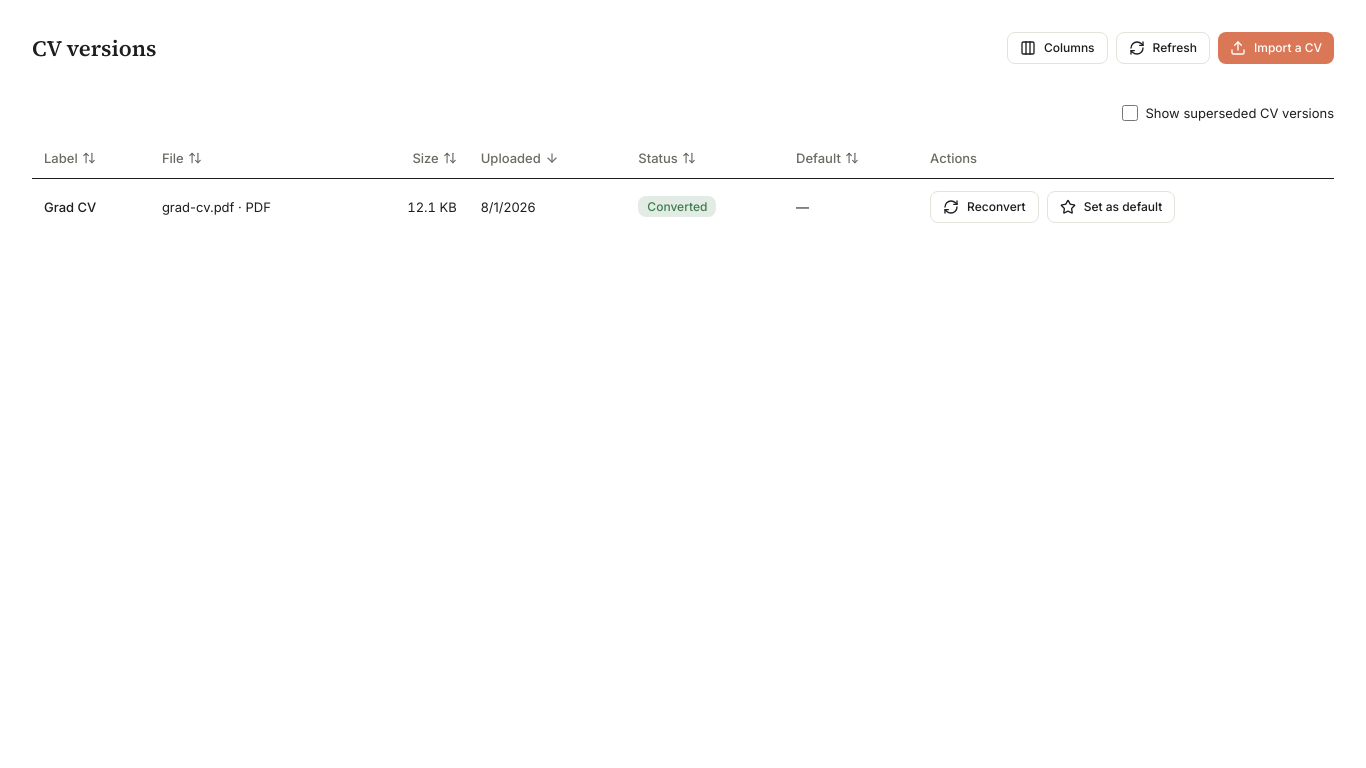
Scenario: CvVersionsPage — list › shows no redaction note when there is no rendition to show yet (issue #169)
This screenshot has width=1366, height=768.
Click the text "Grad CV" at (91, 206), box x1=32 y1=178 x2=150 y2=235
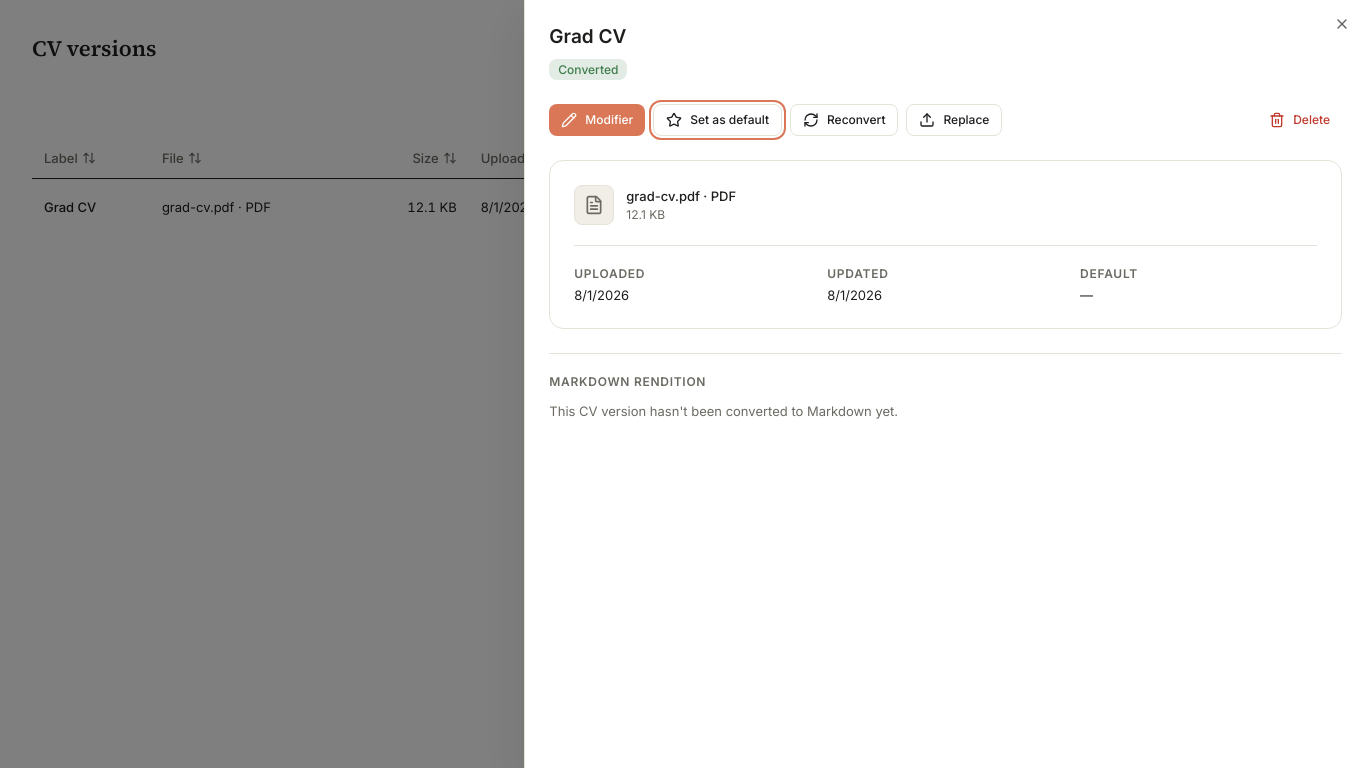
Now the text "This CV version hasn't been converted to Markdown yet." is shown, box x1=549 y1=403 x2=898 y2=419
